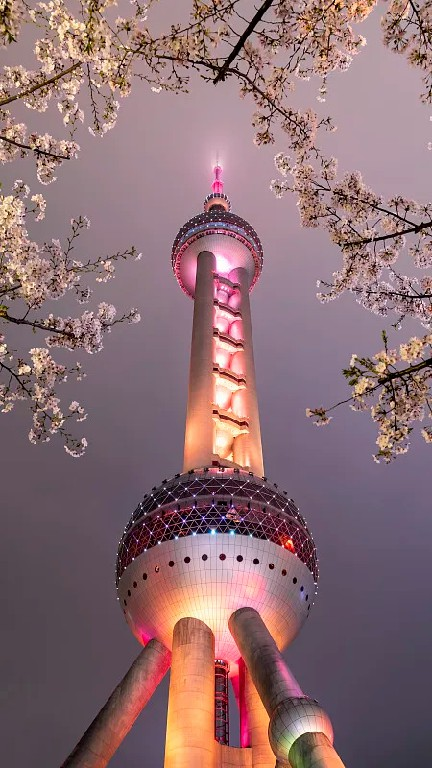Oriental: (64, 148, 344, 768)
